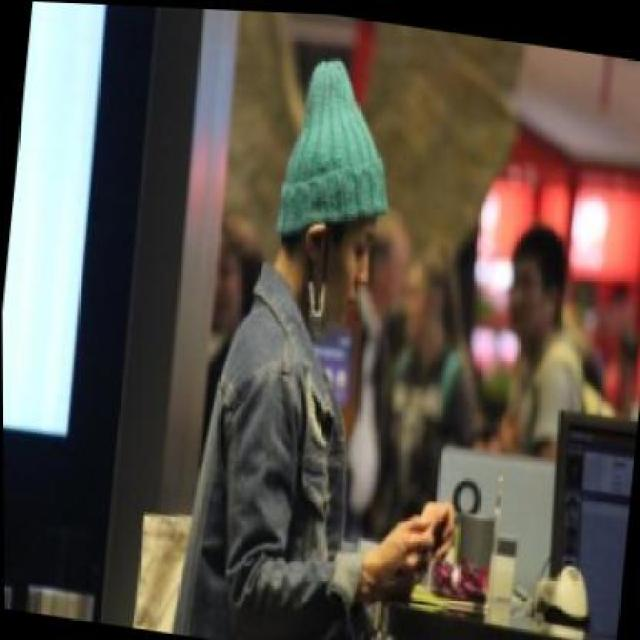hat: (275, 55, 385, 235)
